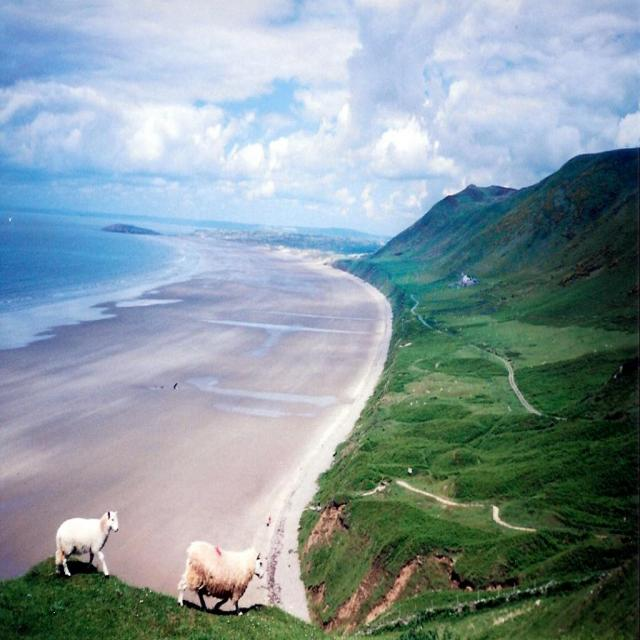Sheep: (176, 540, 261, 606), (54, 510, 120, 580)
